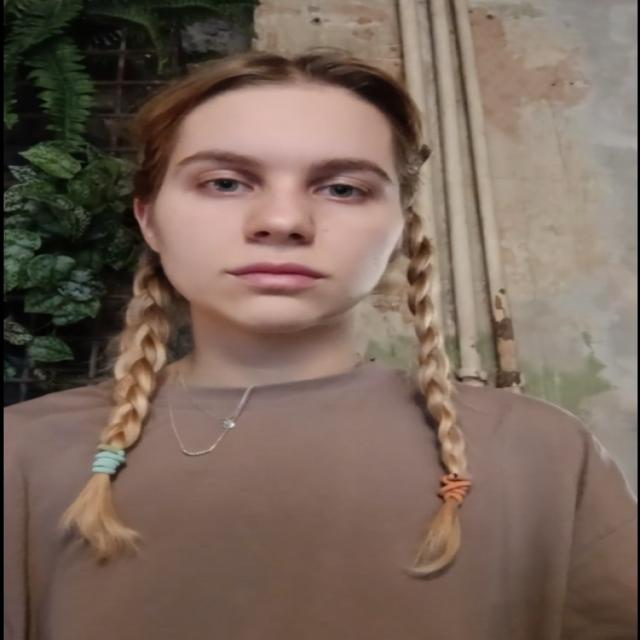earlobe: (142, 229, 160, 253)
eye: (195, 172, 254, 196), (314, 181, 370, 202)
nose: (248, 237, 311, 265)
wholeear: (132, 194, 160, 253)
